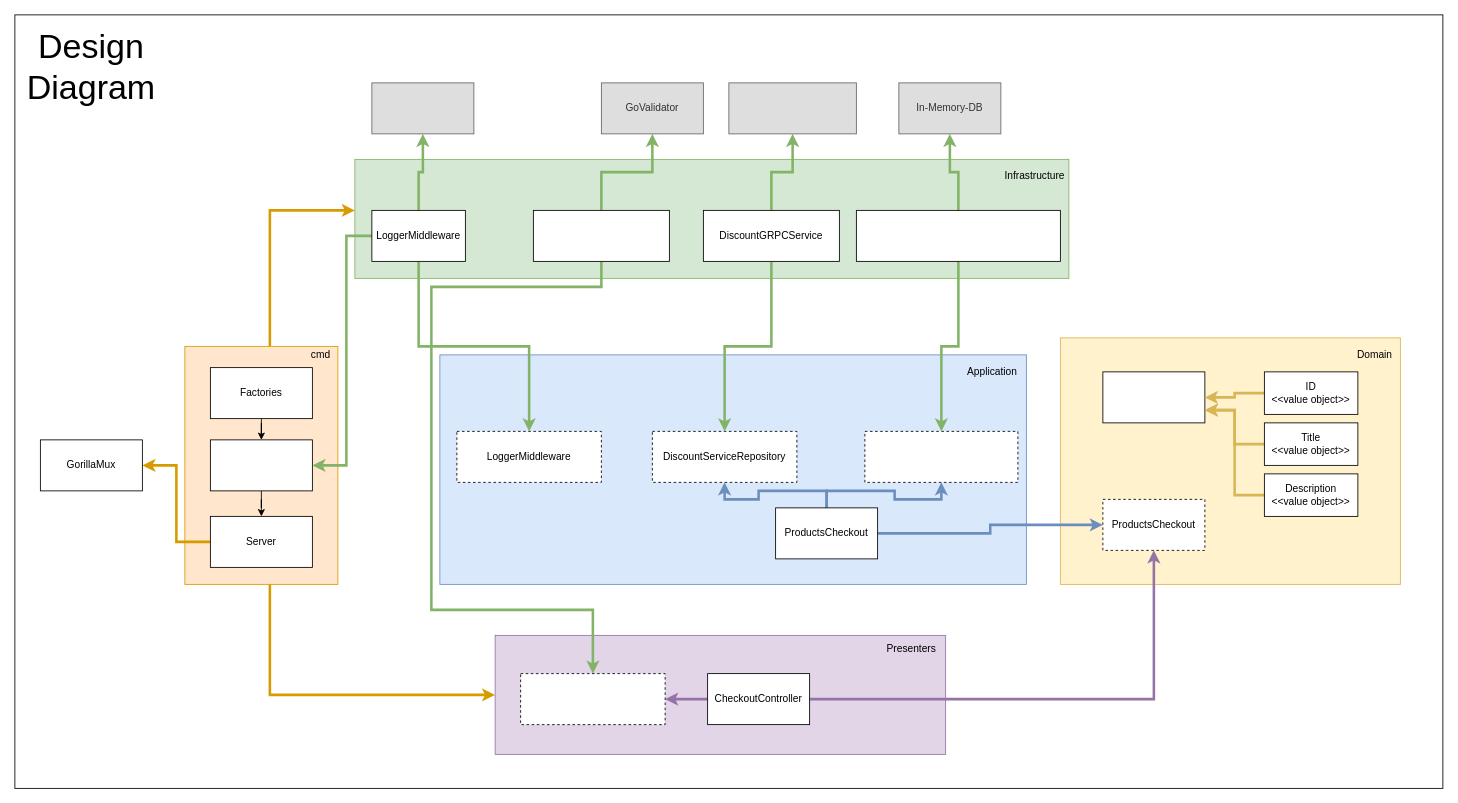
Image size: 1458x803. Some labels were removed from this diagram. The box of each missing label's shape, as (x1, y1, x2, y2) in pixels:
App: (210, 439, 312, 491)
GRPC <<Discount Service>>: (728, 82, 856, 134)
Logrus: (371, 82, 474, 134)
Product <<entity>>: (1102, 371, 1205, 423)
ProductCheckoutRepository: (864, 431, 1018, 482)
ProductCheckoutRepositoryImplementation: (856, 210, 1060, 261)
Validate: (520, 673, 665, 725)
ValidateRequestParams: (533, 210, 669, 261)
